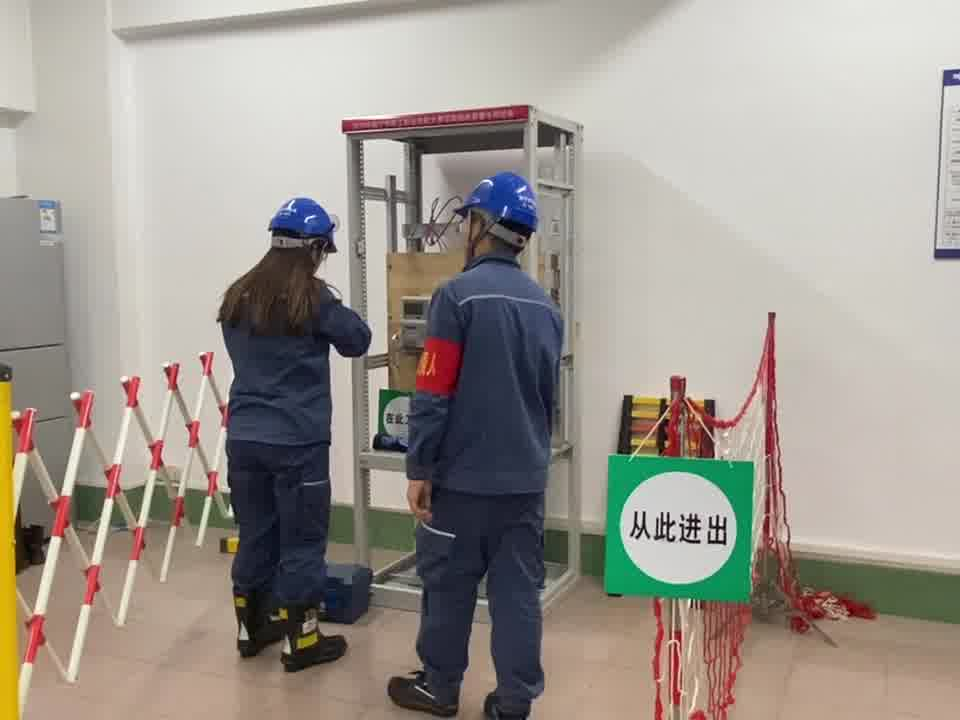badge: (415, 337, 464, 397)
downsuit: (413, 507, 550, 709), (226, 450, 341, 608)
hair: (218, 194, 338, 329)
halt: (457, 171, 543, 253)
hand: (405, 480, 433, 519)
inear: (458, 210, 491, 260)
intosign: (595, 447, 757, 604)
person: (399, 167, 566, 720), (214, 194, 375, 644)
shoe: (278, 602, 352, 670), (225, 587, 288, 658)
upsuit: (407, 257, 563, 489), (220, 284, 368, 433)
worksign: (370, 389, 415, 445)
